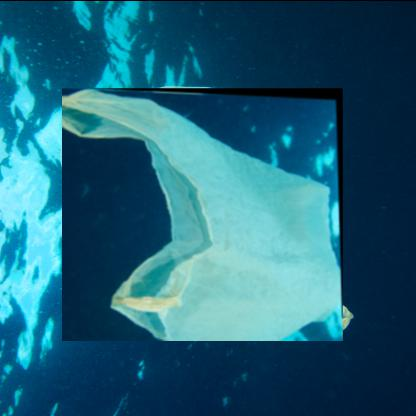plastic-bag: (62, 86, 344, 340)
